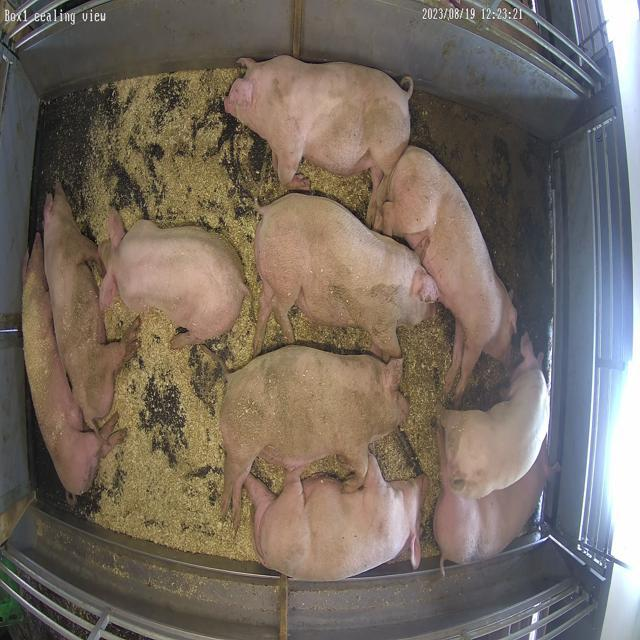Dirt: (411, 91, 554, 356), (463, 356, 511, 410)
Pig: (225, 55, 518, 404), (220, 346, 409, 528), (254, 193, 438, 360), (23, 234, 124, 496), (224, 55, 412, 188), (43, 184, 139, 430), (245, 455, 428, 582), (99, 210, 249, 349), (438, 336, 551, 500), (435, 453, 546, 564)
